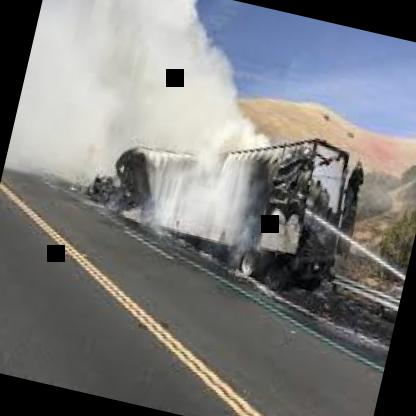fire: (0, 35, 365, 274)
